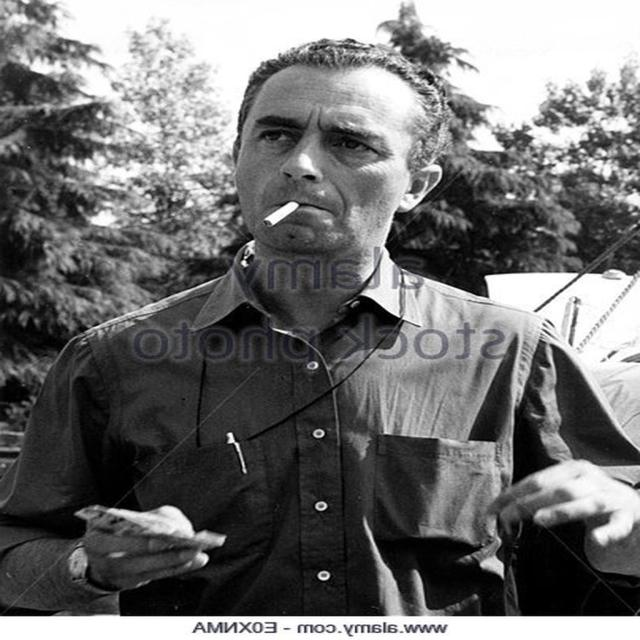smoking: (199, 39, 451, 270)
